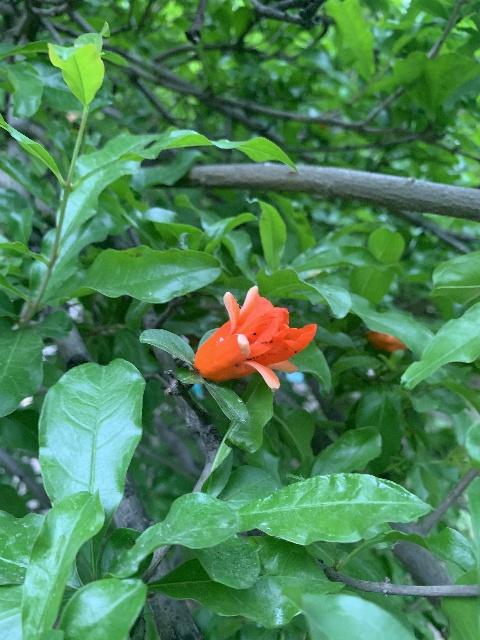bud: (366, 330, 407, 352)
flower: (194, 286, 316, 390)
